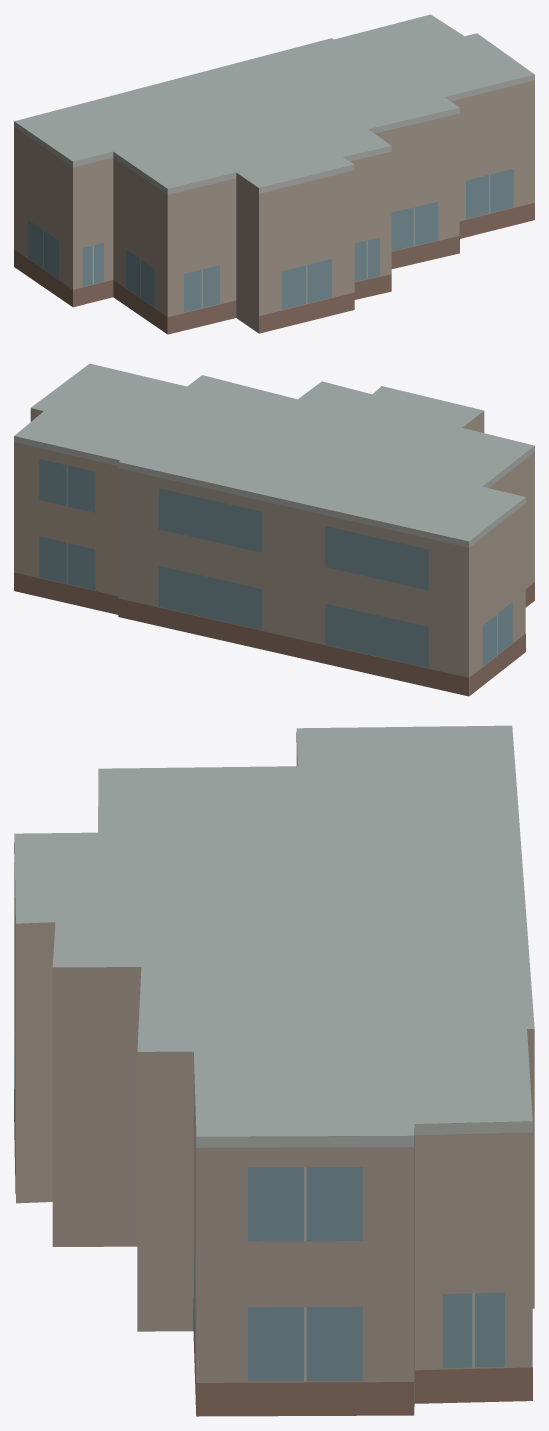
Rendered from survey-upis-32658884.glb.
3 views of the same model, one above another, from view 1: azimuth 30°, elevation 25°; view 2: azimuth 150°, elevation 25°; view 3: azimuth 270°, elevation 25° (orthographic). The views are drawn at different scales.
Parts seen in each view (by area): view 1: survey-upis-32658884.tmp; view 2: survey-upis-32658884.tmp; view 3: survey-upis-32658884.tmp.
Part boxes in pixels (<box>): survey-upis-32658884.tmp: <box>14,14,534,334</box>; survey-upis-32658884.tmp: <box>14,363,534,696</box>; survey-upis-32658884.tmp: <box>14,725,534,1416</box>.
Bounding box in the file's own units: 19.24 × 6.1 × 10.3.
